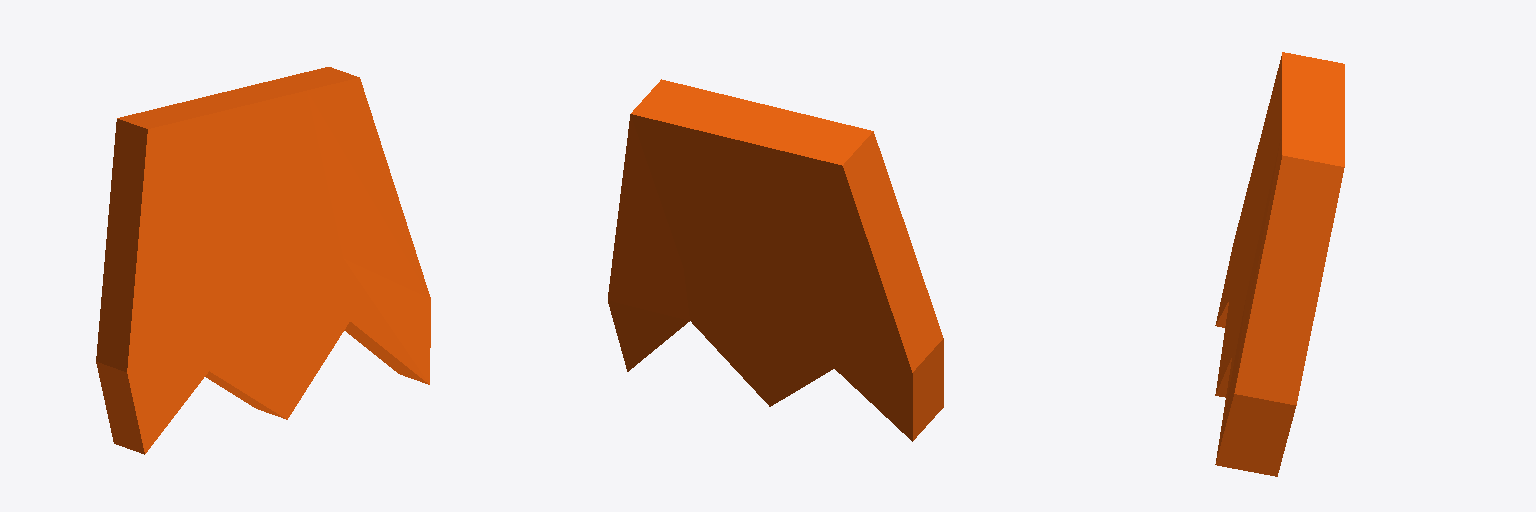
3 views of the same model, side by side, from view 1: azimuth 30°, elevation 25°; view 2: azimuth 150°, elevation 25°; view 3: azimuth 270°, elevation 25° (orthographic).
Parts seen in each view (by area): view 1: Cube_Cube.001; view 2: Cube_Cube.001; view 3: Cube_Cube.001.
Boxes of the visible parts, <box> form: Cube_Cube.001: <box>96,67,430,454</box>; Cube_Cube.001: <box>608,79,943,441</box>; Cube_Cube.001: <box>1215,52,1344,476</box>.
Size of the model in its own units: 0.4144 by 0.395 by 0.1525.
Materials: 1 (1 with a texture image).